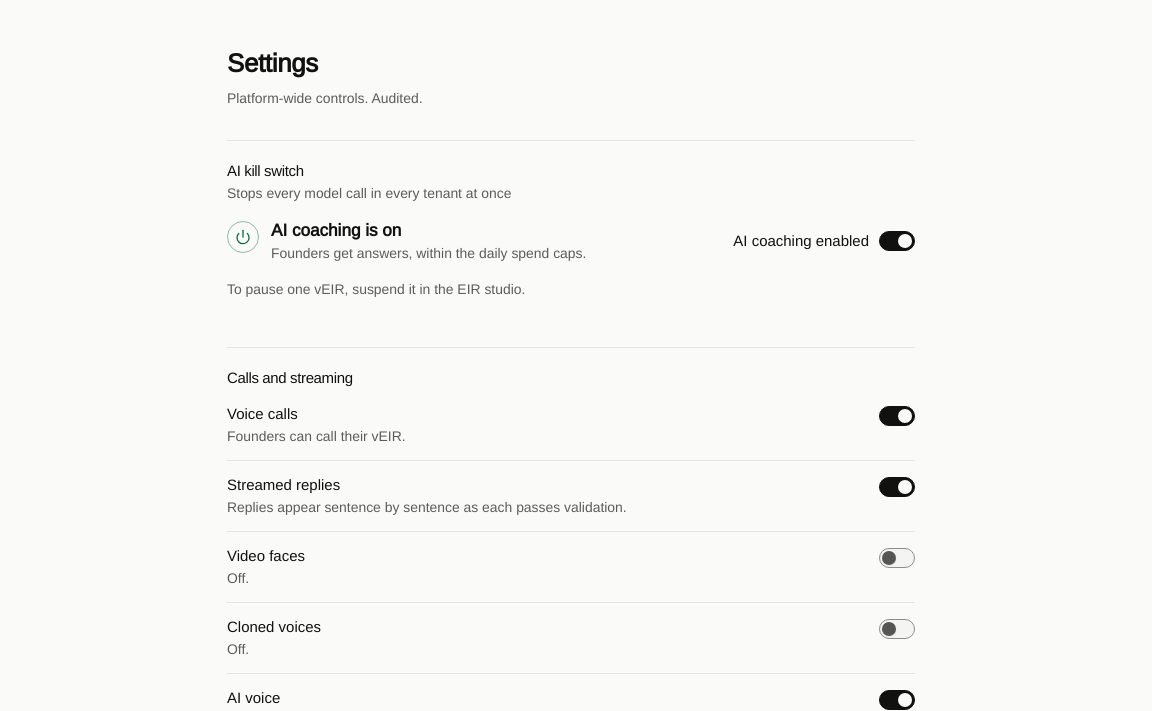
it: SettingsPage kill switch wiring › sends only { aiEnabled: false } after confirmation and shows the paused state
The width and height of the screenshot is (1152, 711).
Click the switch named "AI coaching enabled" next to "AI coaching enabled".
click(897, 241)  # box [879,231,915,251]
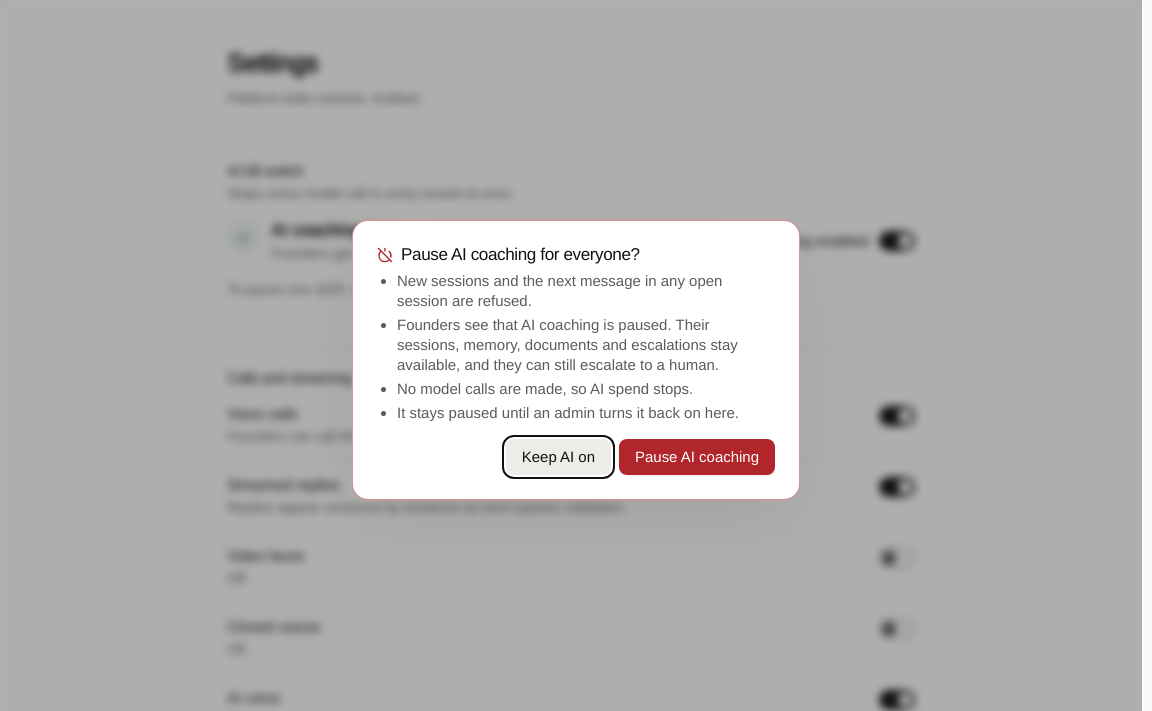
Click the button "Pause AI coaching".
click(697, 457)  # box [619,439,775,475]
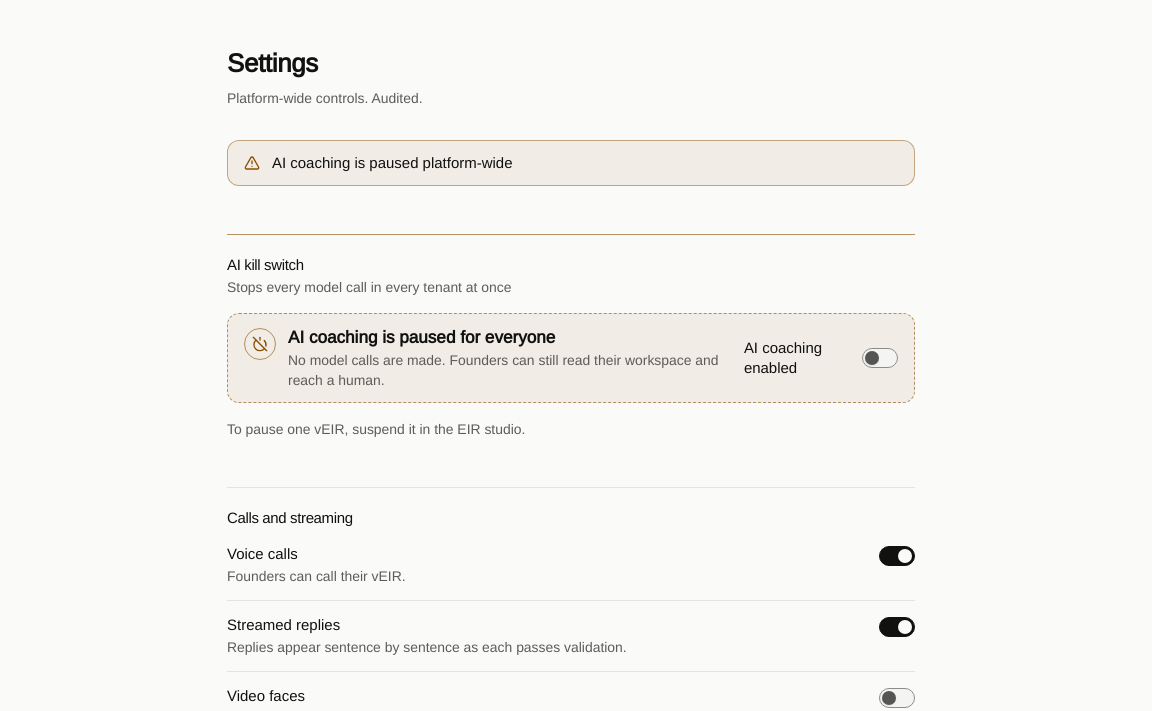
Result: the text with test id "ai-state" reads "AI coaching is paused for everyone" at [288,328,555,347]
Result: the text "AI coaching is paused platform-wide" is shown at [272,153,512,173]
